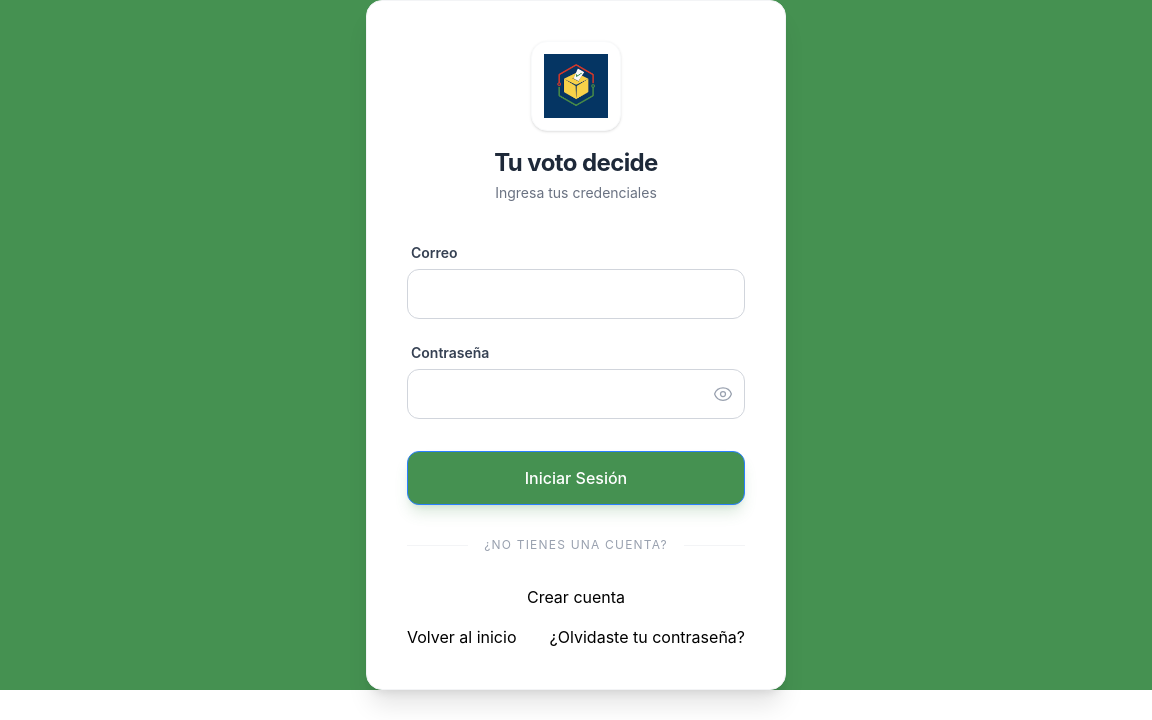
Test: MX-03 | auth y acceso | integraciones canónicas › [MX-03][AUT-CRE-P0-003][INTEGRACION] rechaza credenciales inválidas sin crear sesión ni exponer datos privados
The width and height of the screenshot is (1152, 720).
Type "admin@example.com" into the field with test id "login-email" at {"x": 576, "y": 294}, box [407, 269, 745, 319]
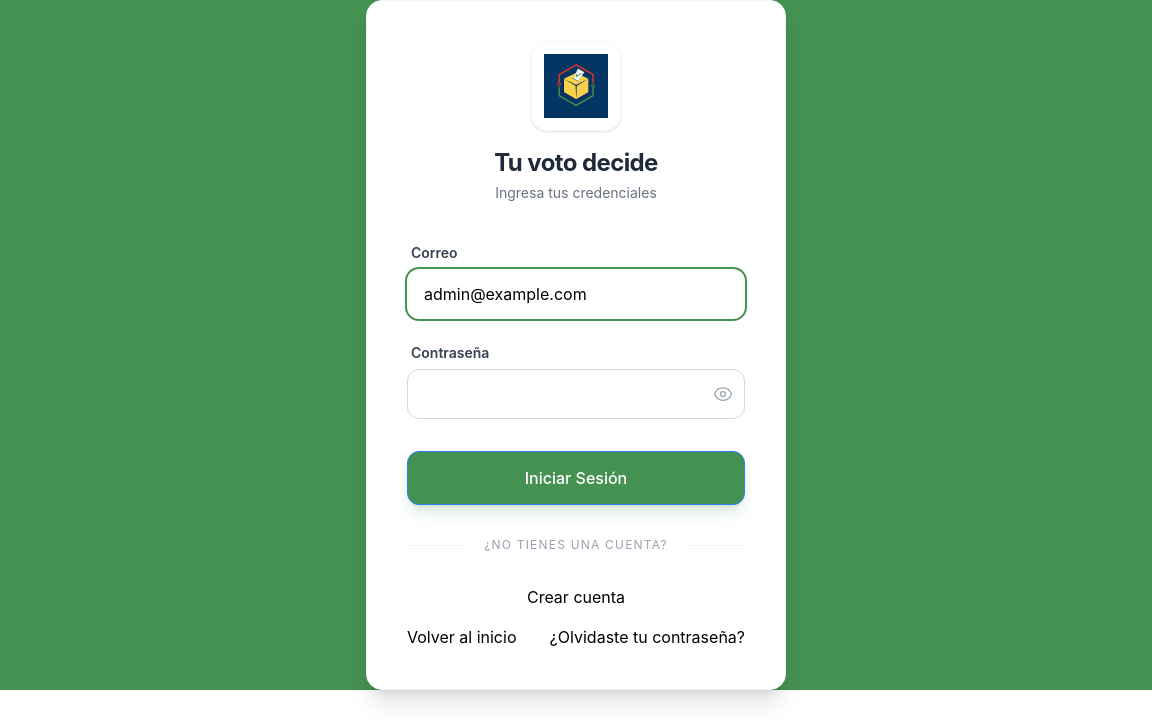
Type "wrong-password" into the password field with test id "login-password" at {"x": 576, "y": 394}, box [407, 369, 745, 419]
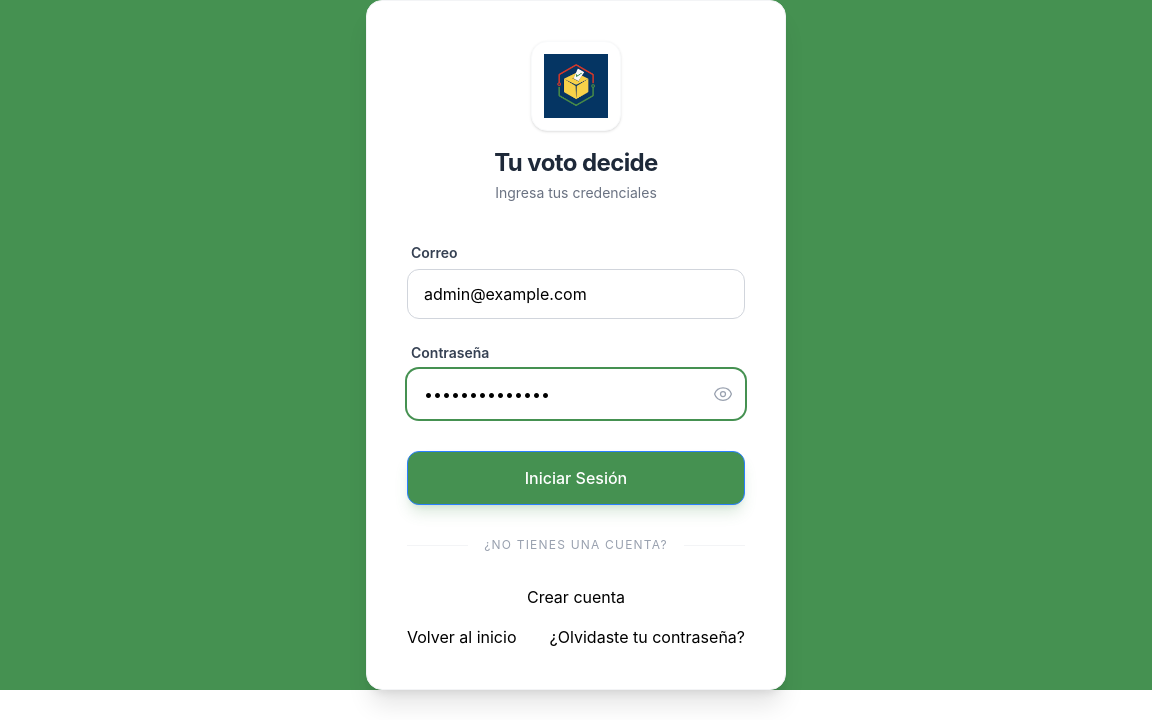
Click the button with test id "login-submit" at {"x": 576, "y": 478}, box [407, 451, 745, 505]
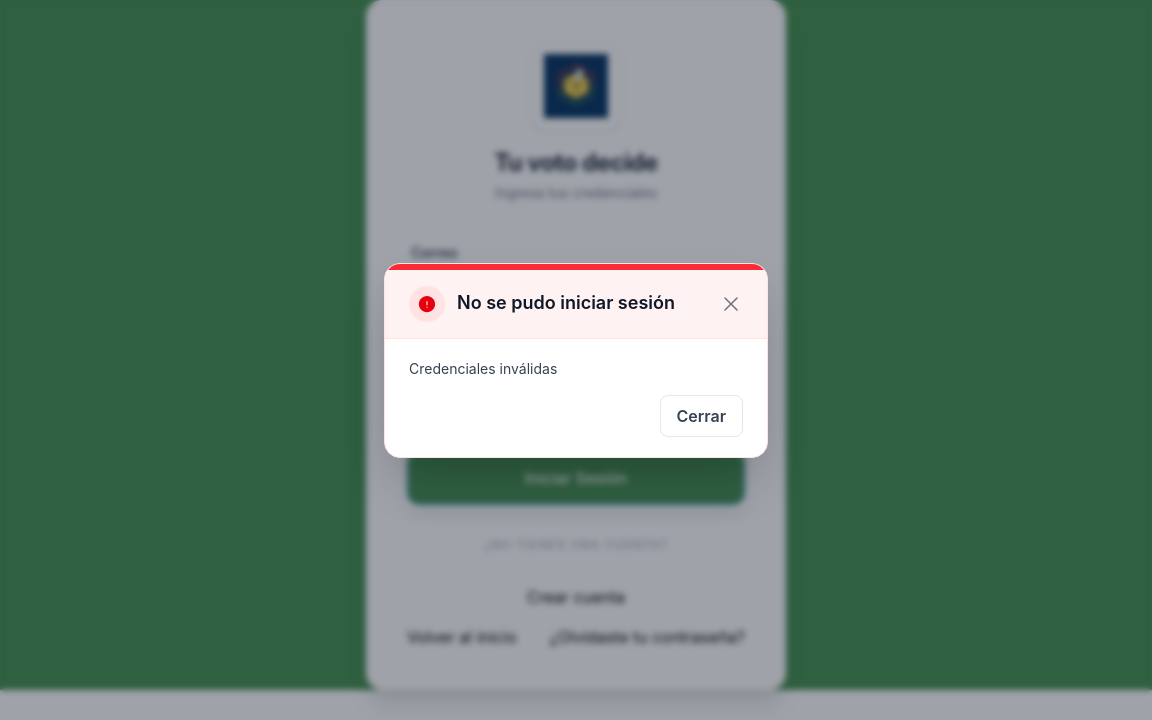
Expected: the dialog "No se pudo iniciar sesión" does not show "wrong-password", [384, 262, 768, 458]
Expected: the dialog "No se pudo iniciar sesión" shows "Credenciales inválidas", [409, 360, 557, 376]
